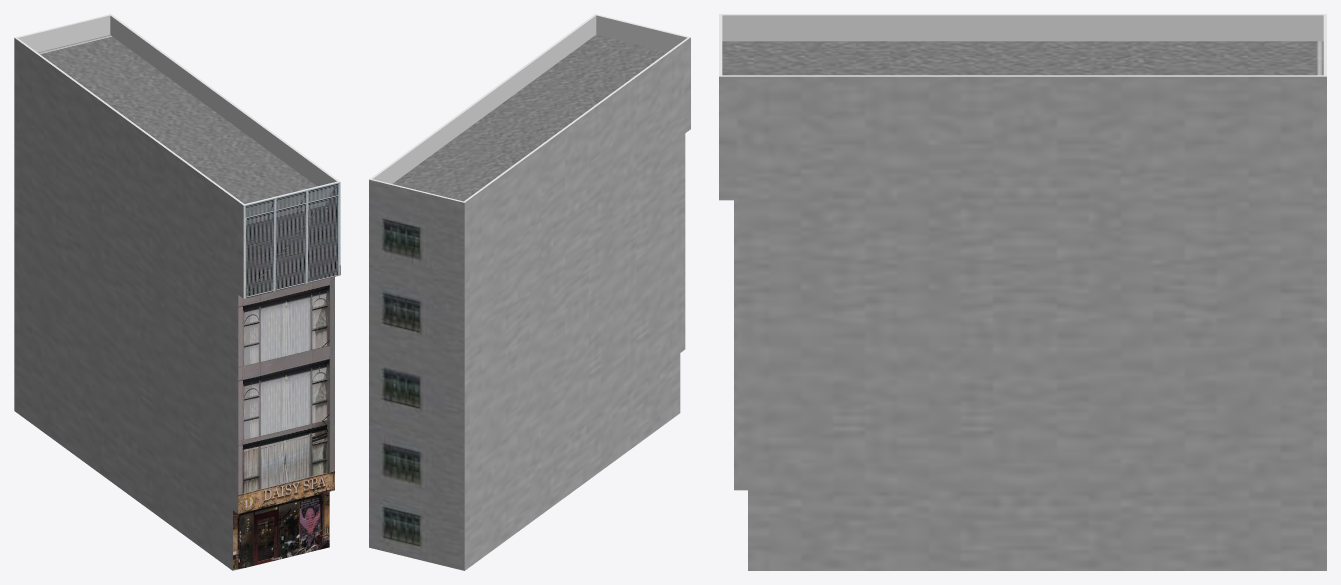
The picture shows the model from 3 angles, left to right: view 1: azimuth 30°, elevation 25°; view 2: azimuth 150°, elevation 25°; view 3: azimuth 270°, elevation 25°; orthographic projection. The views are drawn at different scales.
Parts seen in each view (by area): view 1: HN925_DaisyClinic_Spa; view 2: HN925_DaisyClinic_Spa; view 3: HN925_DaisyClinic_Spa.
Boxes of the visible parts, box(x1,y1,x2,y2) form: HN925_DaisyClinic_Spa: box(14, 14, 340, 570); HN925_DaisyClinic_Spa: box(369, 14, 690, 570); HN925_DaisyClinic_Spa: box(719, 14, 1326, 570).
Size of the model in its own units: 5 by 18.4 by 20.5.
Materials: 1 (1 with a texture image).
